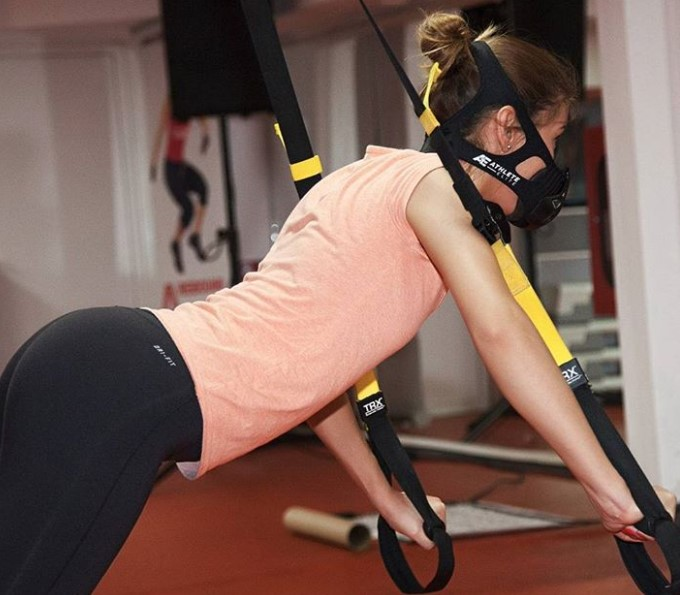face_with_mask: (434, 44, 578, 231)
